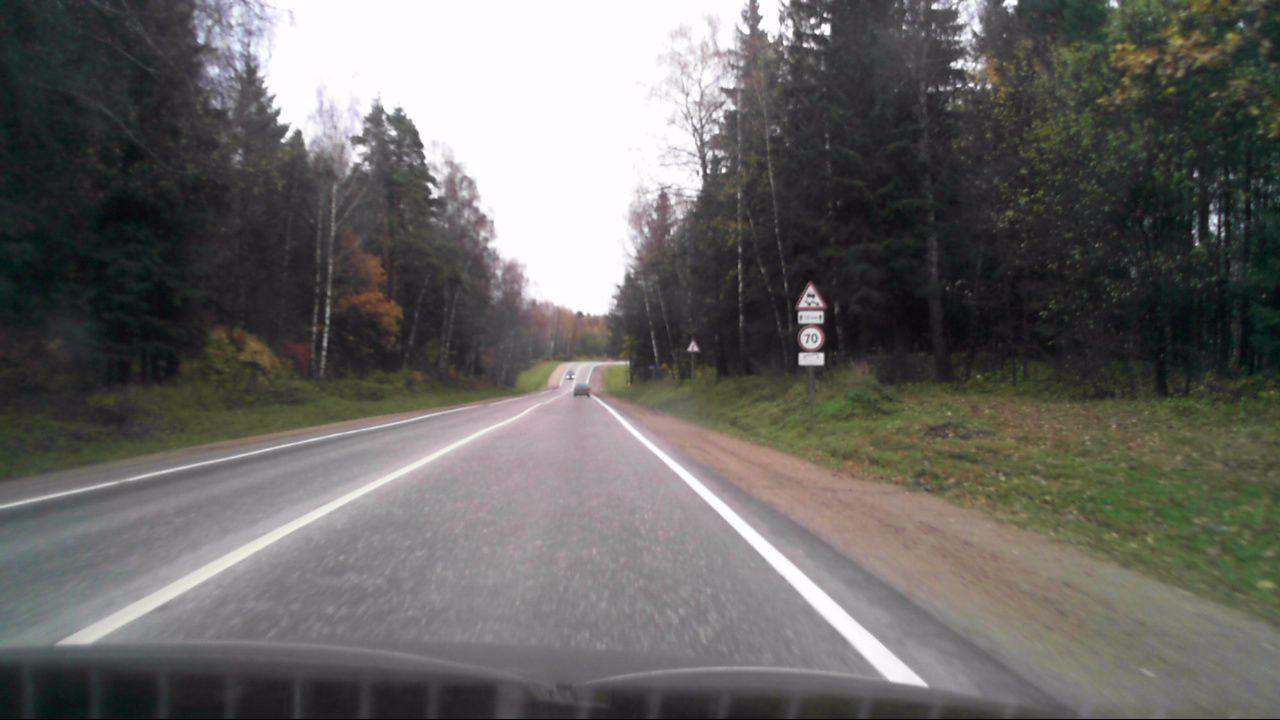1_11_1: (686, 339, 700, 353)
1_15: (795, 281, 825, 309)
3_24: (796, 324, 825, 350)
8_2_1: (796, 310, 827, 324)
